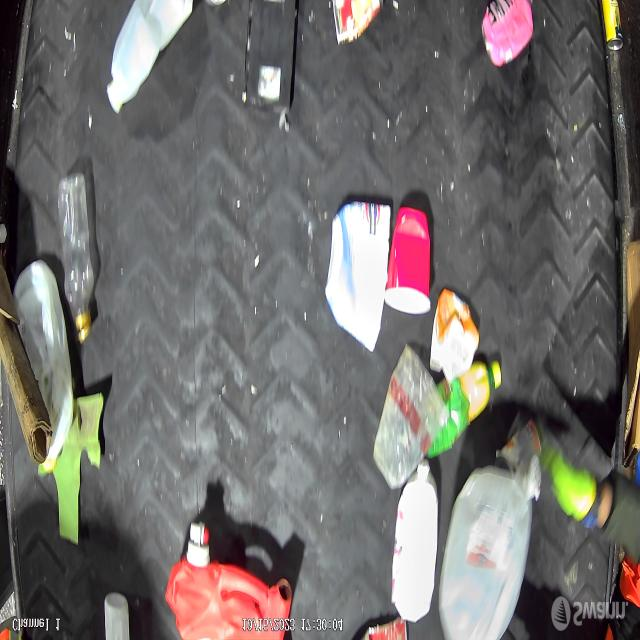milk_jug: (442, 460, 539, 640), (104, 0, 208, 116), (392, 457, 439, 620)
non_white_jug: (162, 522, 296, 640)
plastic_bottle: (62, 152, 96, 344)
